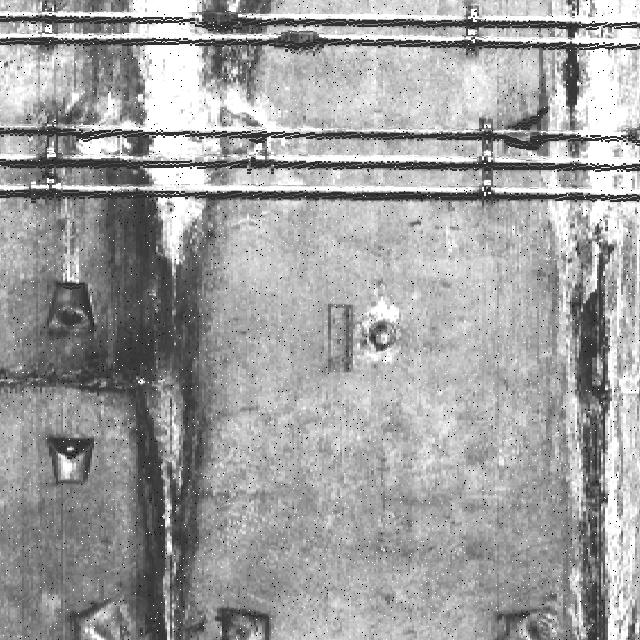leakage: (90, 1, 265, 637), (539, 4, 640, 640)
